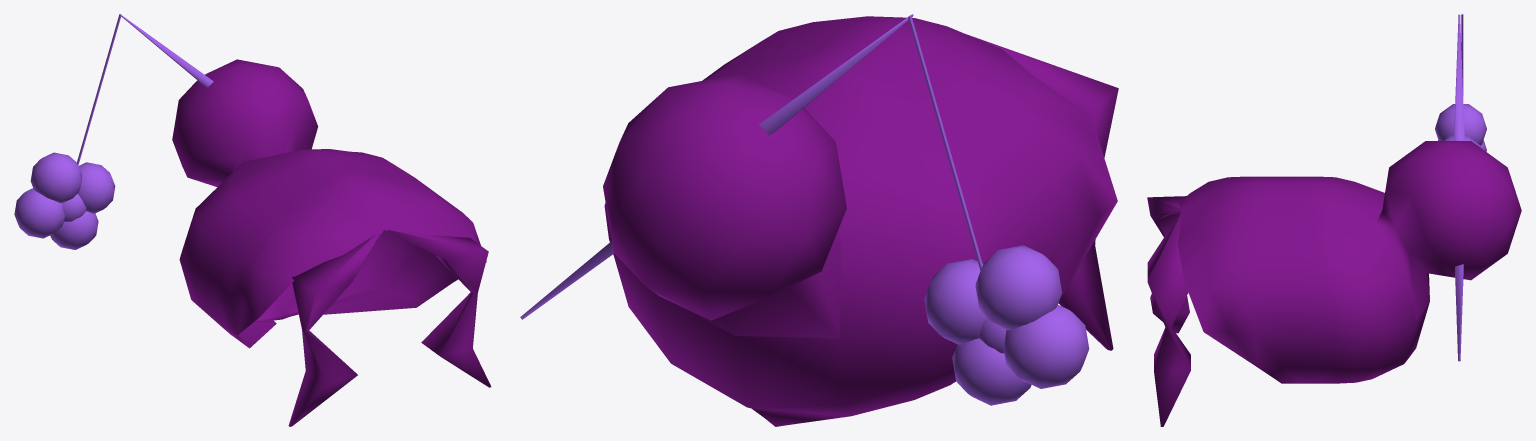
The model's file is pembe topuzlu süslü saç.fbx.
3 renders of one model, left to right at view 1: azimuth 30°, elevation 25°; view 2: azimuth 150°, elevation 25°; view 3: azimuth 270°, elevation 25°, orthographic. The views are drawn at different scales.
Parts seen in each view (by area): view 1: Küp; view 2: Küp; view 3: Küp.
Part boxes in pixels (<box>): Küp: <box>14,14,491,426</box>; Küp: <box>520,14,1118,426</box>; Küp: <box>1147,14,1521,426</box>.
Size of the model in its own units: 213 by 188 by 207.
